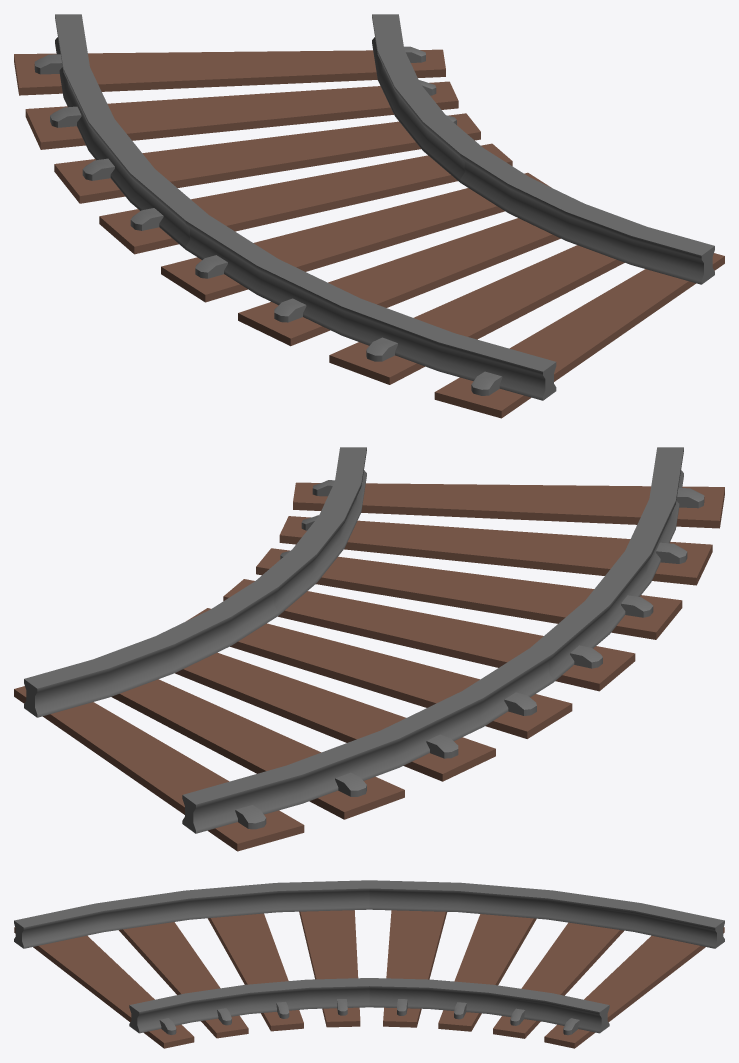
File: Trilho_curva_longa.fbx
3 views of the same model, one above another, from view 1: azimuth 30°, elevation 25°; view 2: azimuth 150°, elevation 25°; view 3: azimuth 270°, elevation 25° (orthographic). The views are drawn at different scales.
Parts seen in each view (by area): view 1: Trilho_curva_longa; view 2: Trilho_curva_longa; view 3: Trilho_curva_longa.
Part boxes in pixels (box(x1,y1,x2,y2)): Trilho_curva_longa: box(14, 14, 724, 418); Trilho_curva_longa: box(14, 447, 724, 851); Trilho_curva_longa: box(14, 880, 724, 1048).
Bounding box in the file's own units: 237 × 19.27 × 462.
